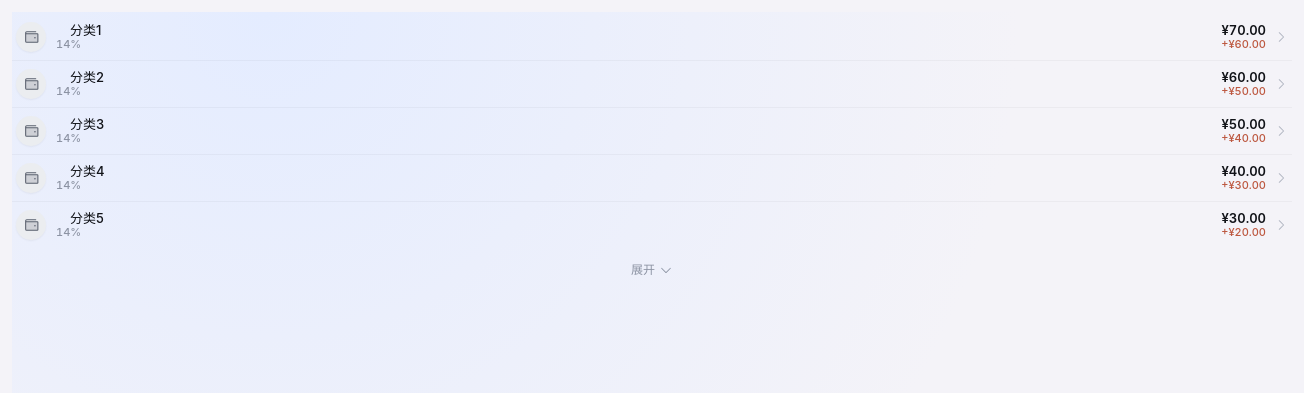
Modular Stats & UI Components › SpendingRankList truncates to Top 5 items and supports expand/collapse
expect the text "分类1" is shown: met, box [70,24,101,37]
expect the text "分类5" is shown: met, box [70,212,104,225]
Click the button "展开".
click(652, 270)  # box [619,258,685,282]
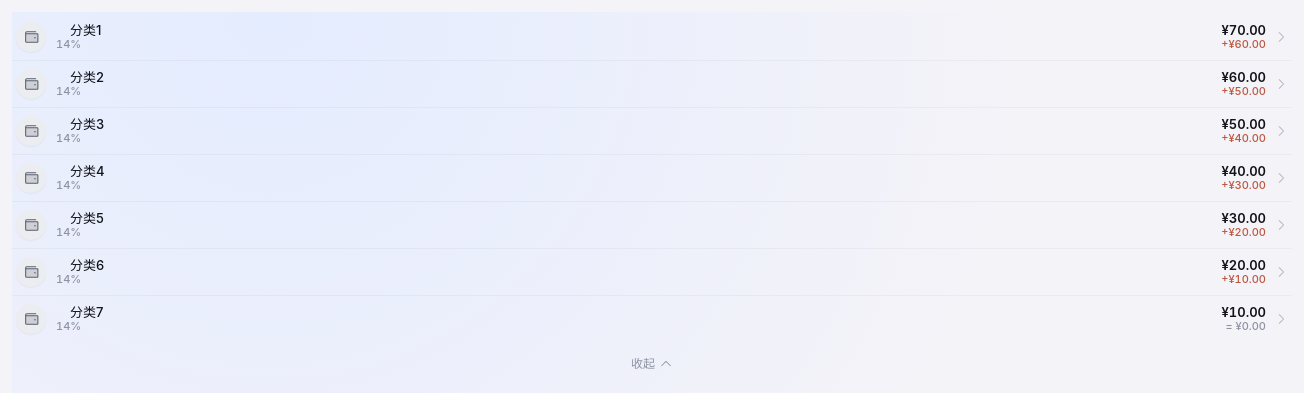
expect the text "分类6" is shown: met, box [70,259,104,272]
expect the text "分类7" is shown: met, box [70,306,103,319]
expect the text "收起" is shown: met, box [631,356,655,372]
Click the button "收起".
click(652, 364)  # box [619,352,685,376]
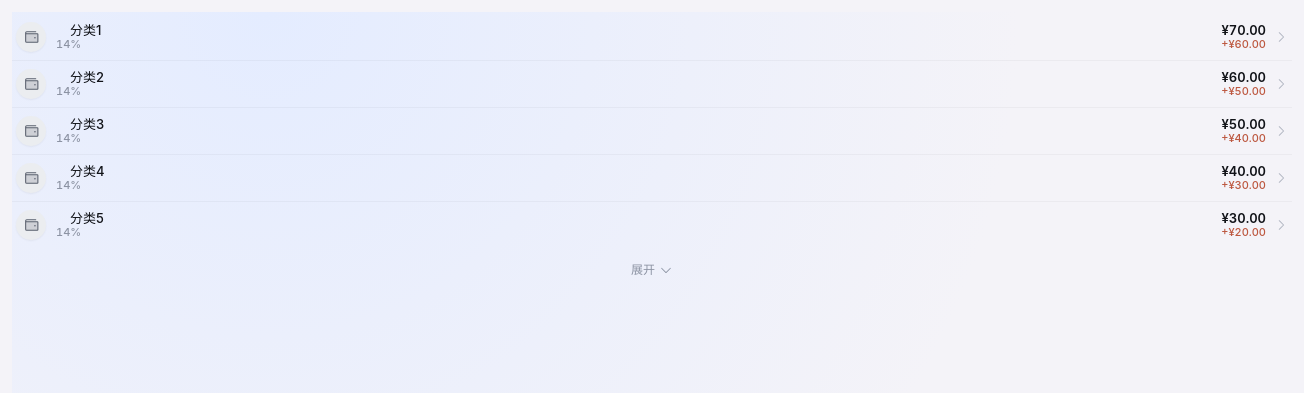
expect the button "分类6" is gone: met
expect the text "展开" is shown: met, box [631,262,655,278]
